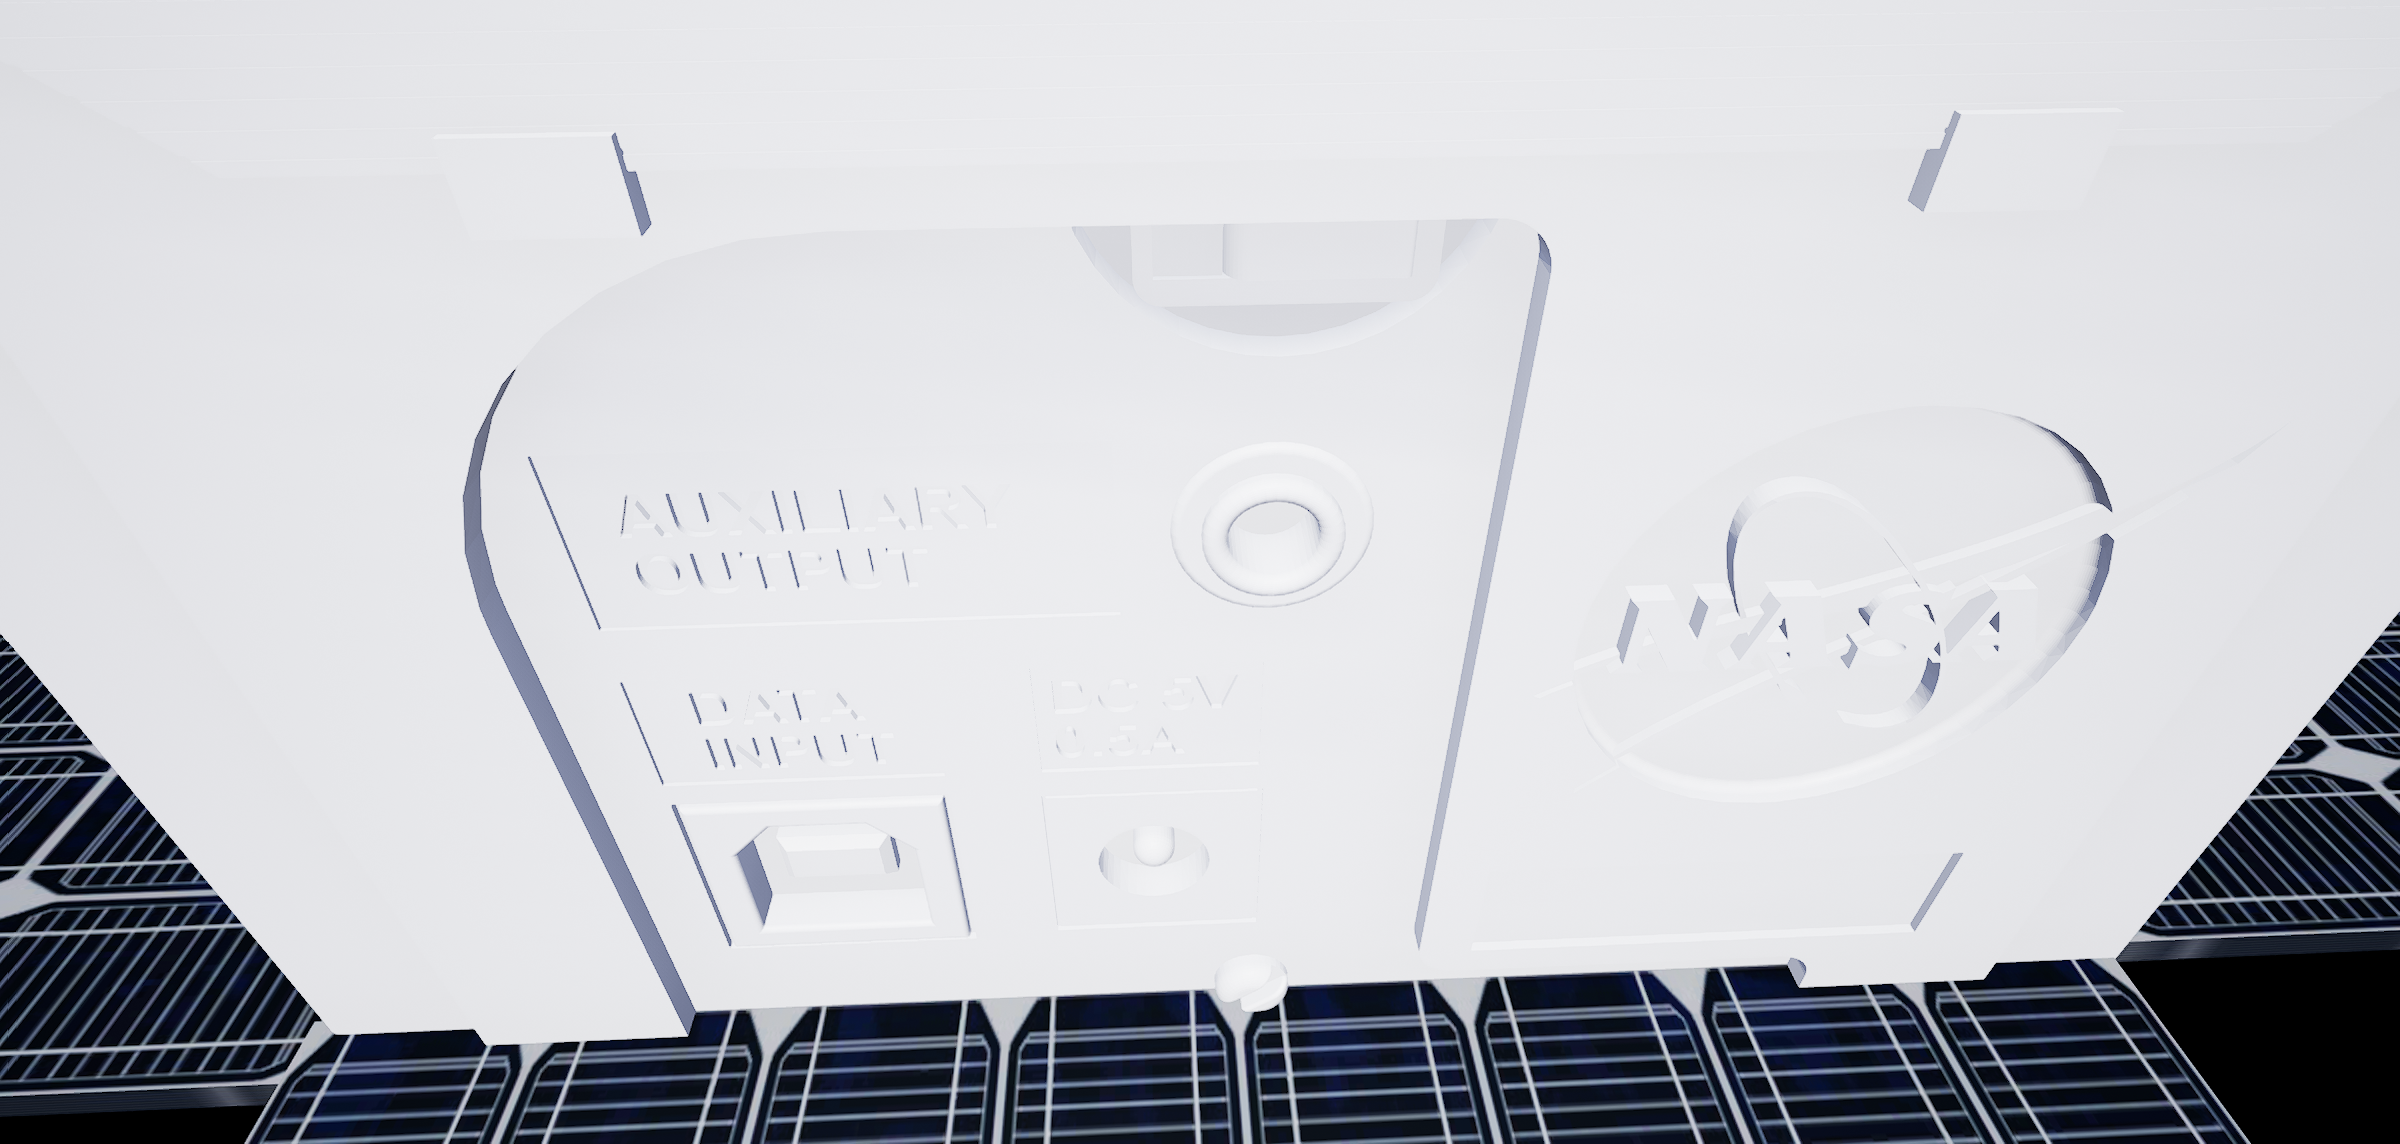aux: (1166, 441, 1381, 614)
dc: (1076, 819, 1228, 907)
usb: (722, 812, 949, 936)
